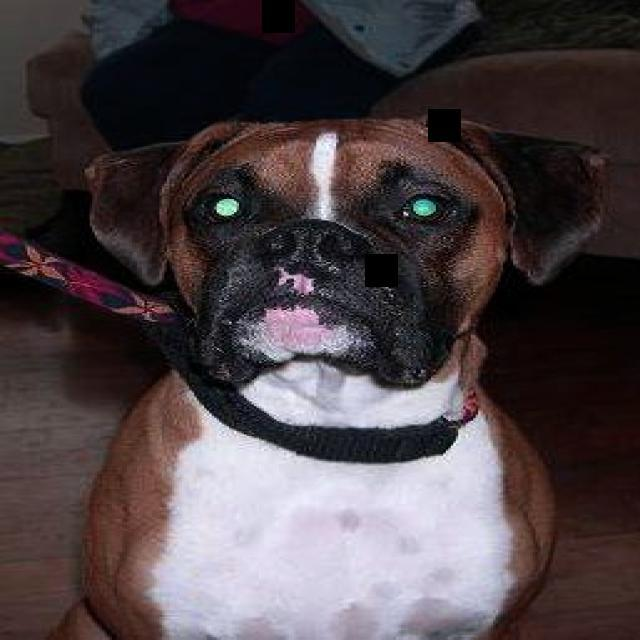adult_dog: (41, 115, 616, 640)
